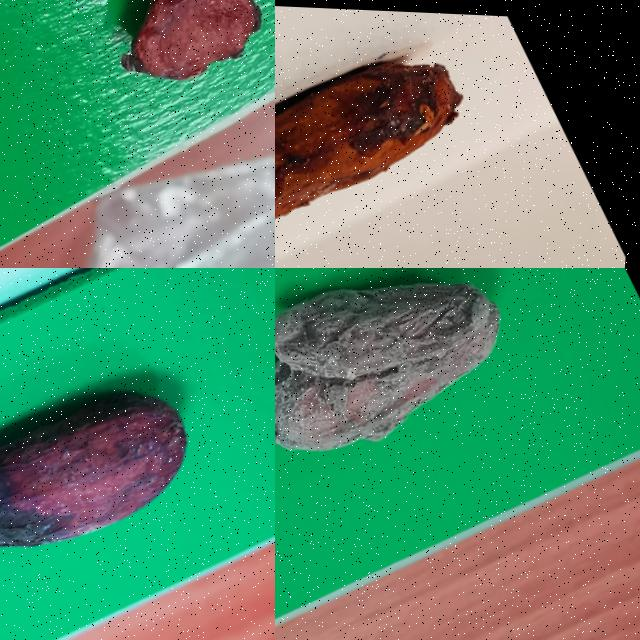Agglomerated_cocoabeans: (275, 268, 634, 567)
Fine_cocoabeans: (0, 268, 274, 639), (275, 0, 534, 267)
Flat_cocoabeans: (0, 0, 274, 182)
